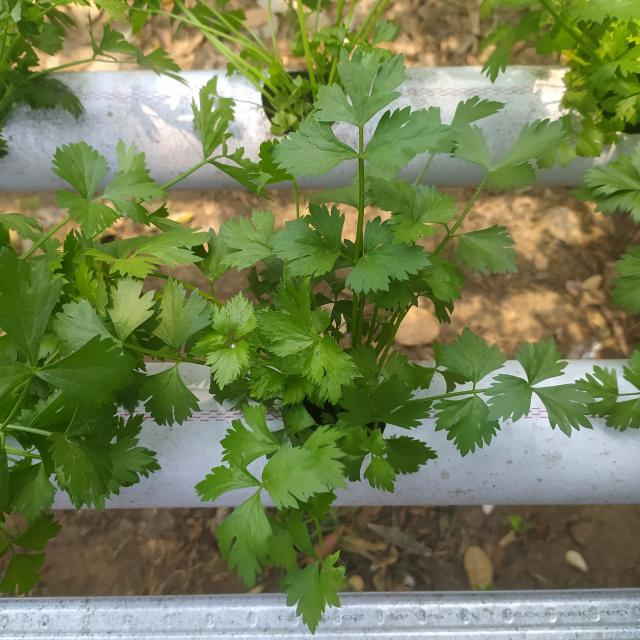Wet Waste: (58, 102, 623, 481), (144, 497, 575, 630)
